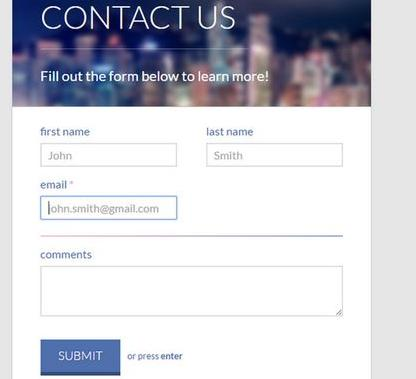button: (39, 338, 122, 377)
field: (39, 264, 344, 318), (38, 194, 182, 222), (204, 142, 346, 169), (40, 142, 180, 169)
field_with_label: (37, 251, 345, 319), (36, 181, 183, 224), (38, 127, 182, 170), (203, 128, 348, 170)
